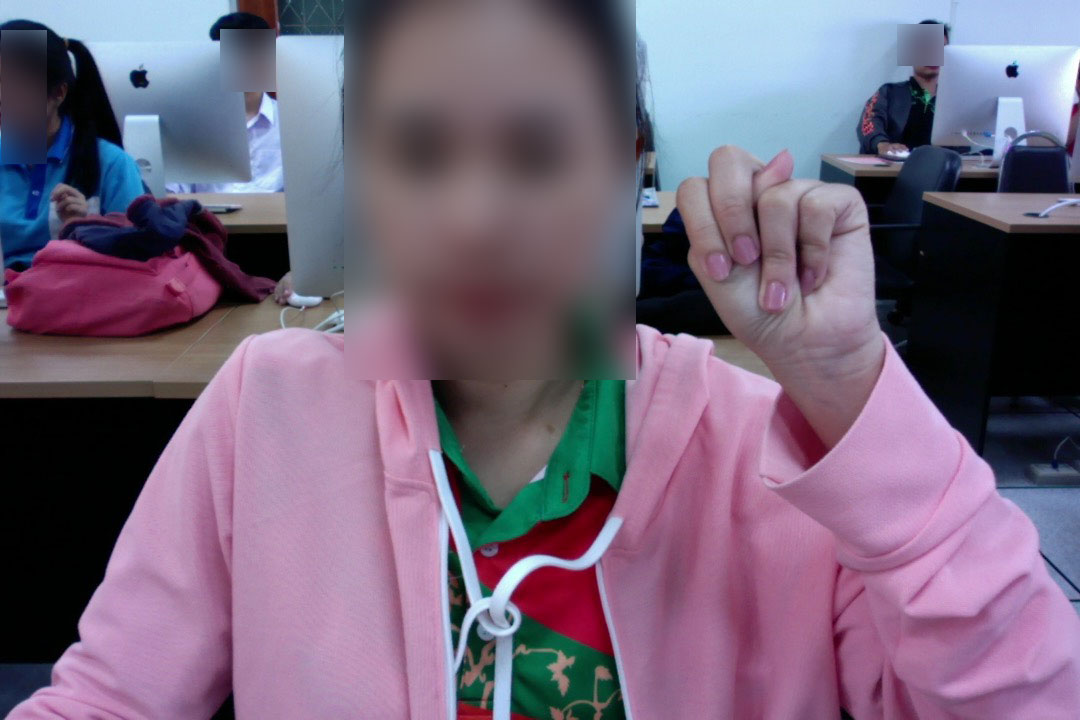nor: (670, 136, 888, 369)
